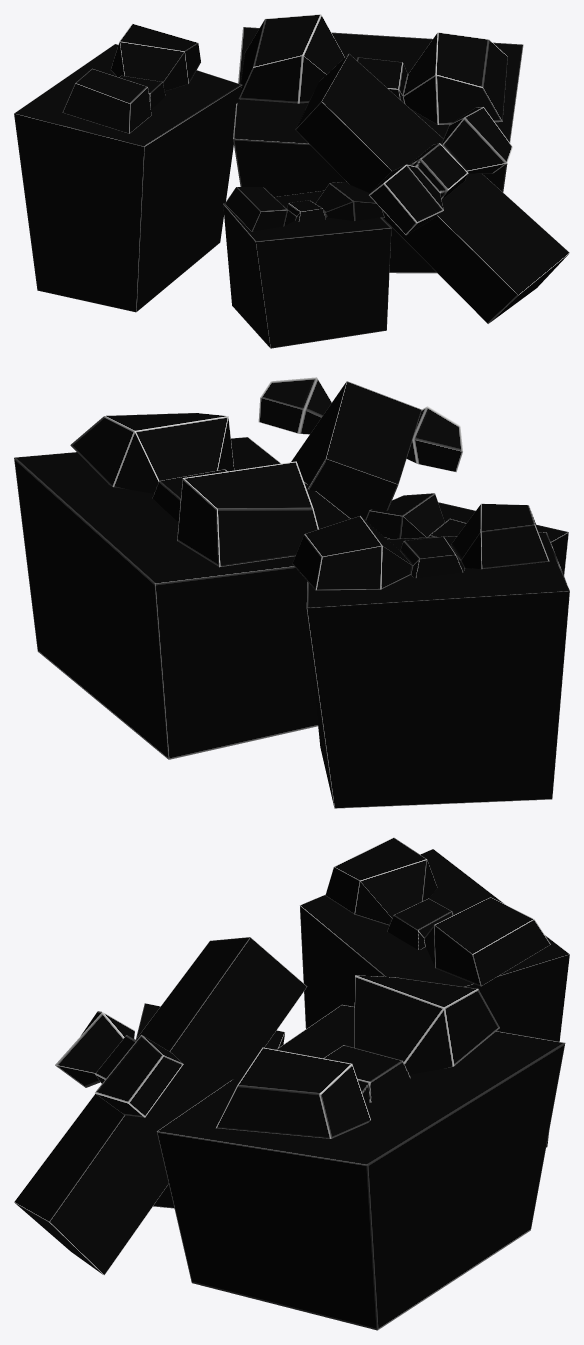
The model's file is presents.obj.
3 views of the same model, one above another, from view 1: azimuth 30°, elevation 25°; view 2: azimuth 150°, elevation 25°; view 3: azimuth 270°, elevation 25° (orthographic). The views are drawn at different scales.
Visible parts, largest first — view 1: presents presents; view 2: presents presents; view 3: presents presents.
Boxes of the visible parts, box(x1,y1,x2,y2) form: presents presents: box(14, 14, 569, 348); presents presents: box(14, 377, 569, 808); presents presents: box(14, 837, 569, 1330).
Bounding box in the file's own units: 3.73 × 1.71 × 3.11.
1 material, 1 textured.
